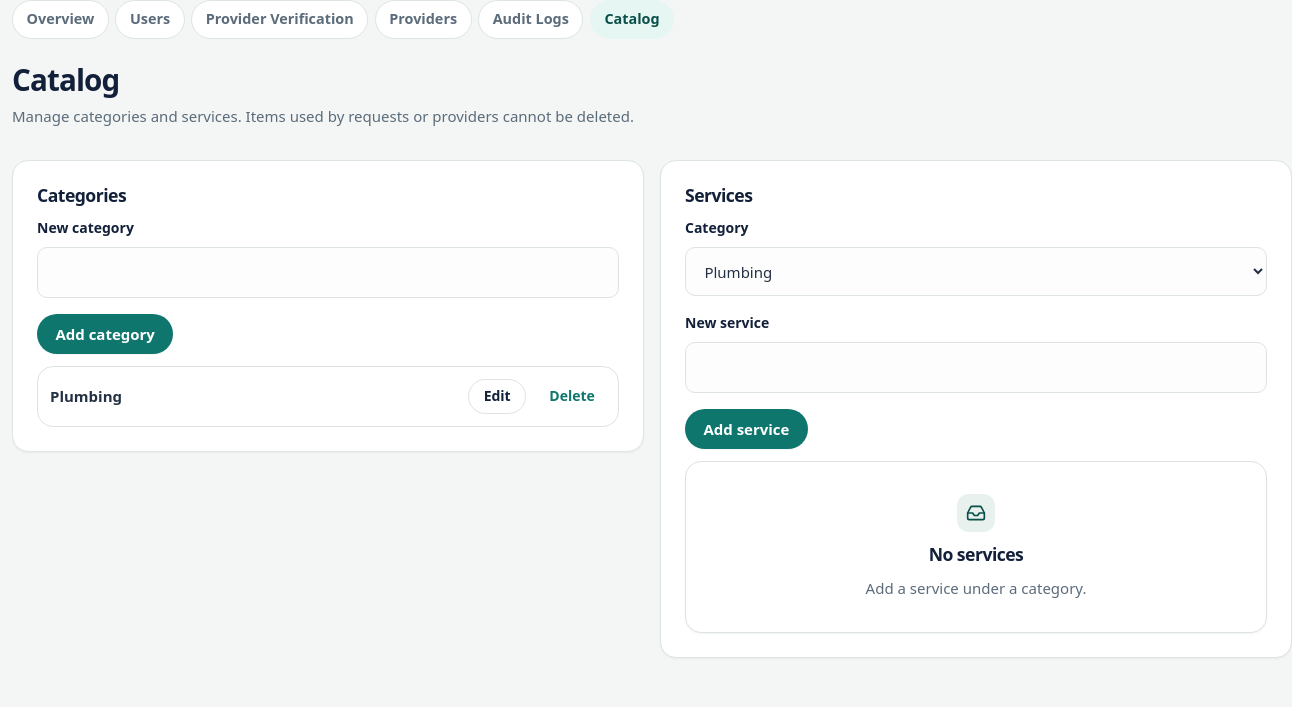
Test: AdminCatalogPage › maps service validation errors onto name and category fields
In the field labelled "New service": (976, 368) [685,342,1267,393], type "Leak repair"
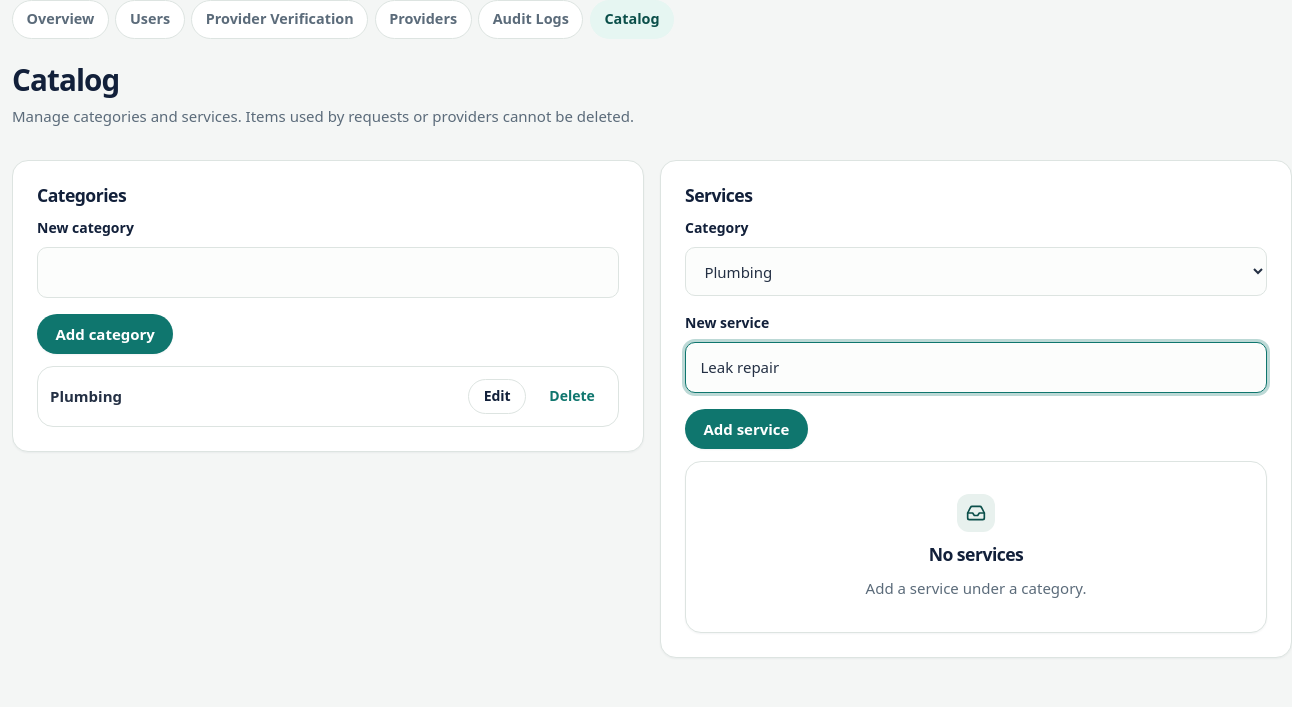
Click the button "Add service": (746, 429) [685,409,808,449]
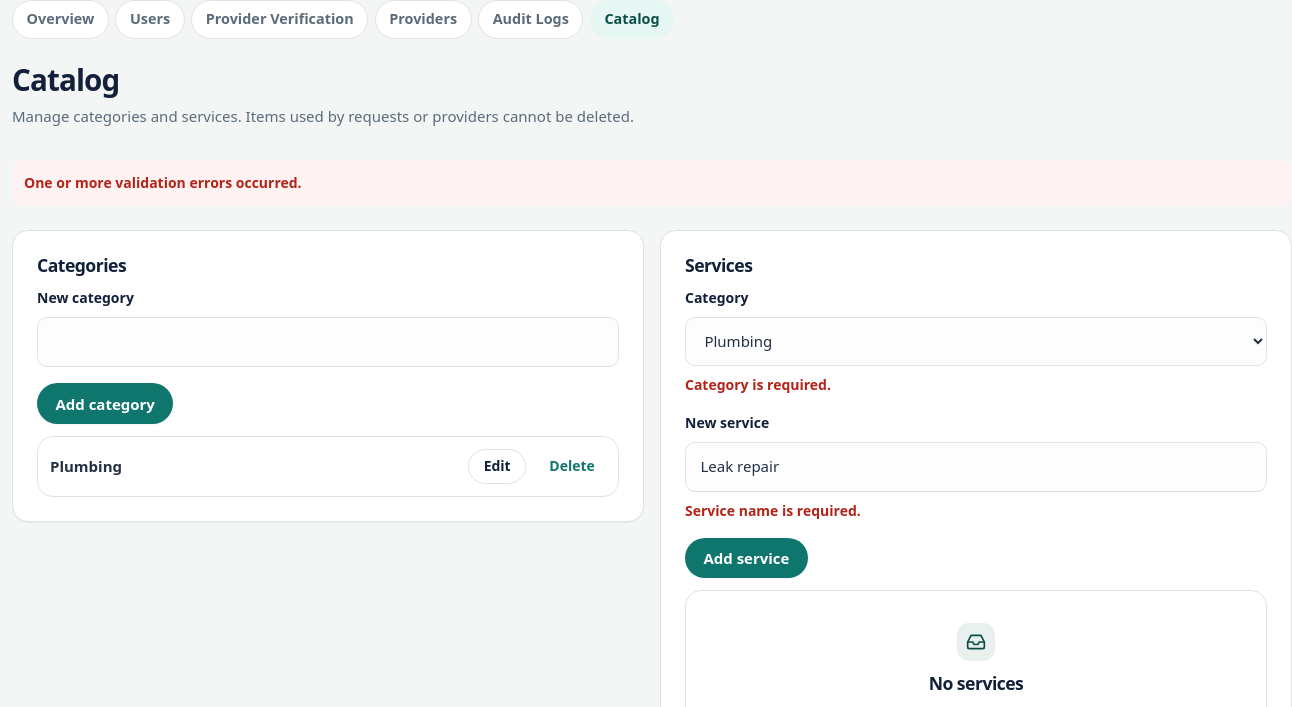
expect the text "Service name is required." is shown: met, box [685,501,861,520]
expect the text "Category is required." is shown: met, box [685,375,831,394]
